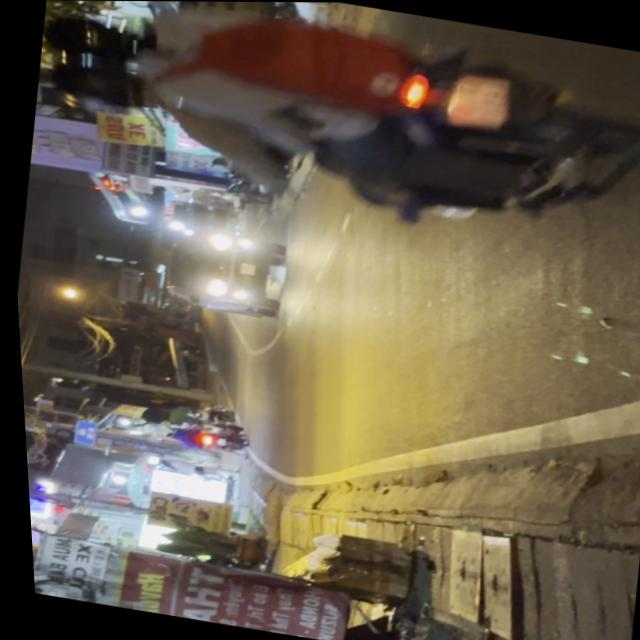helmet: (42, 54, 163, 115), (39, 5, 147, 68)
licenseplate: (22, 0, 640, 262)
nohelmet: (442, 69, 511, 130)
